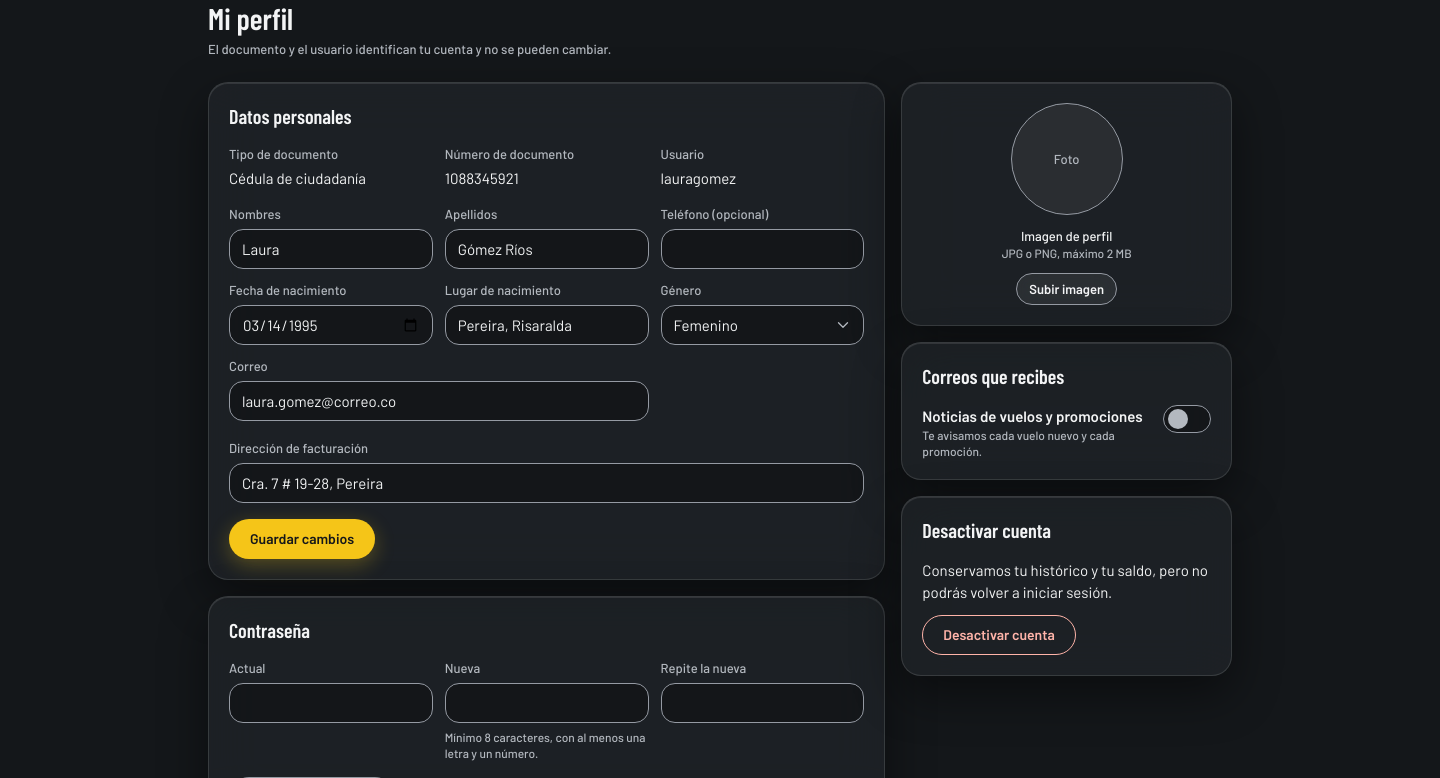
Scenario: S05 · Desactivar cuenta (HU-09) › si el servidor rechaza por tiquetes activos, muestra el motivo y no cierra la sesión
Click the button "Desactivar cuenta".
click(999, 635)  # box [922, 615, 1076, 655]
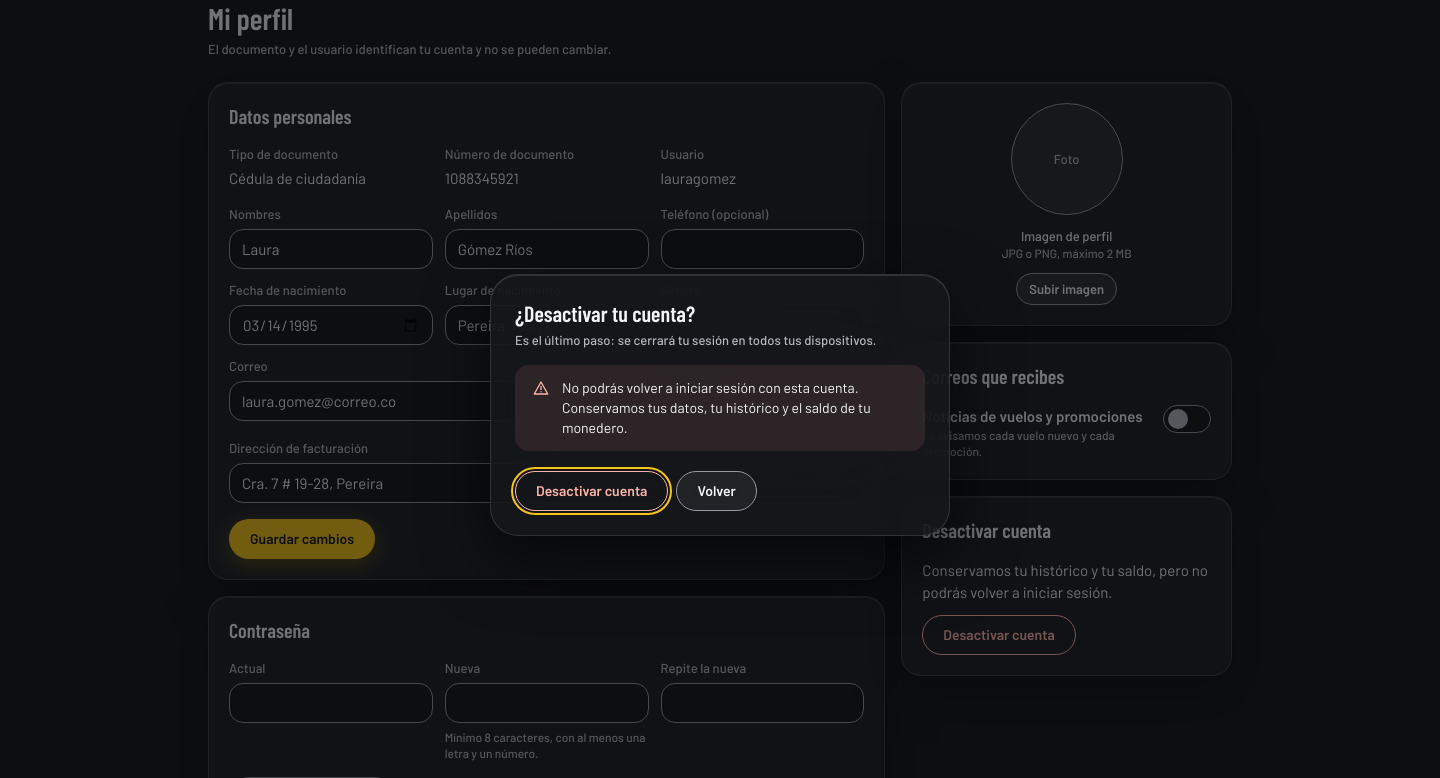
Click the button "Desactivar cuenta".
click(592, 491)  # box [515, 471, 668, 511]
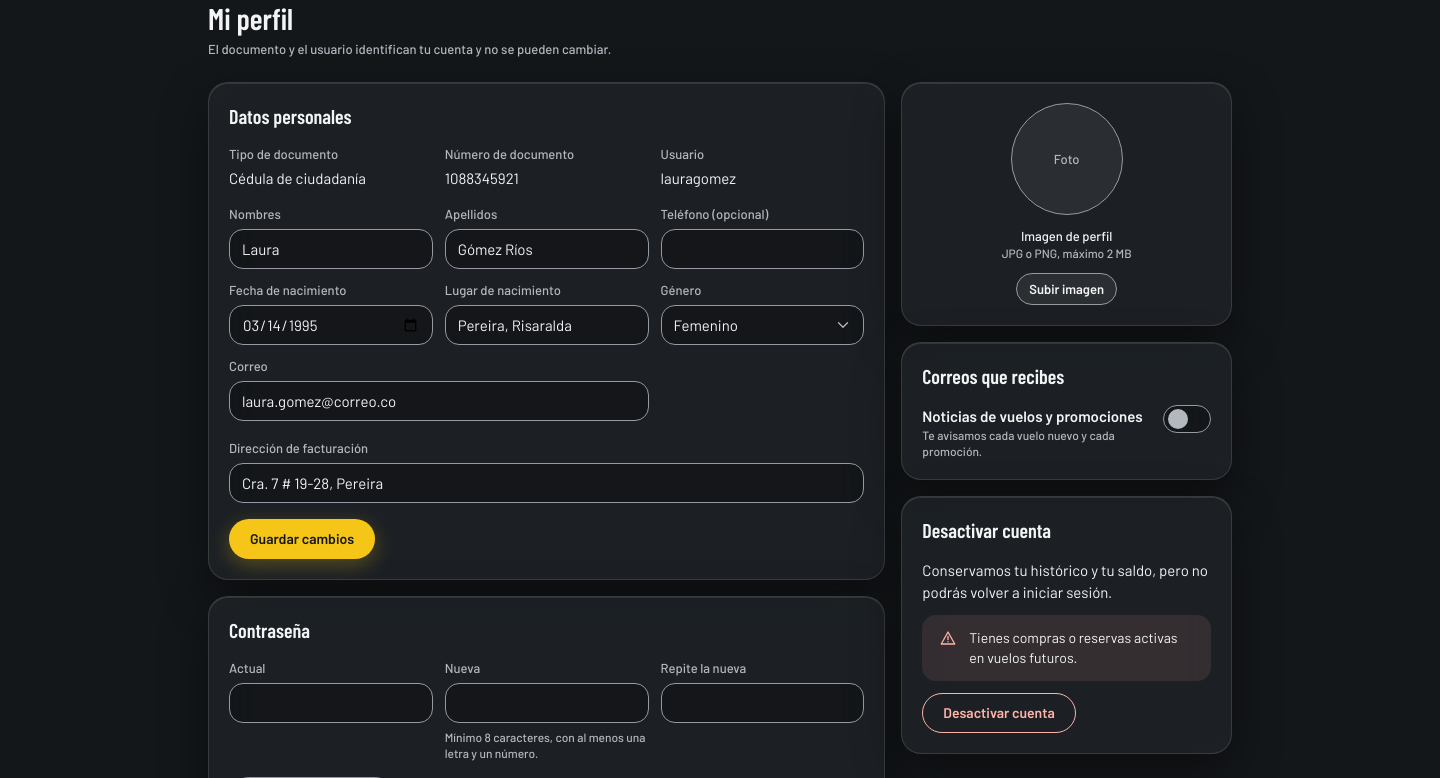
Check: the text "Tienes compras o reservas activas en vuelos futuros." is shown, box [969, 628, 1194, 668]
Check: the dialog is gone
